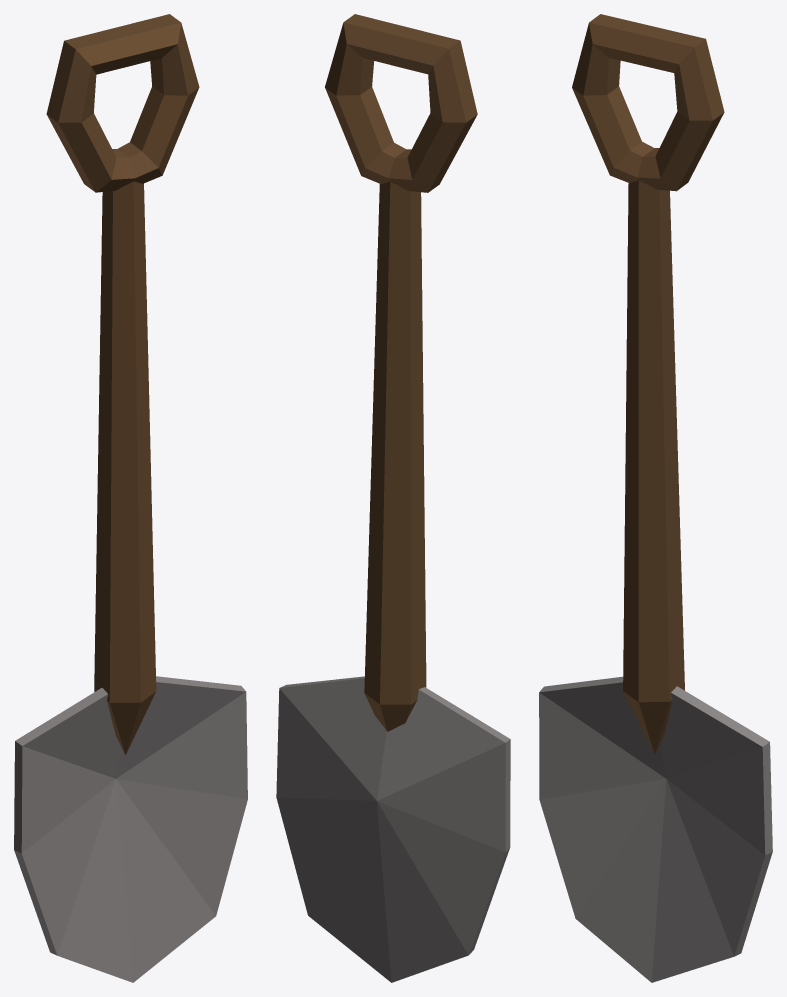
Rendered from shovel.glb.
3 views of the same model, side by side, from view 1: azimuth 30°, elevation 25°; view 2: azimuth 150°, elevation 25°; view 3: azimuth 330°, elevation 25° (orthographic).
Visible parts, largest first — view 1: shovel; view 2: shovel; view 3: shovel.
Boxes of the visible parts, x1,y1,x2,y2 form: shovel: (14, 14, 247, 982); shovel: (276, 14, 510, 982); shovel: (539, 14, 772, 982).
Size of the model in its own units: 0.2704 by 1.07 by 0.0667.
Materials: 1 (1 with a texture image).
